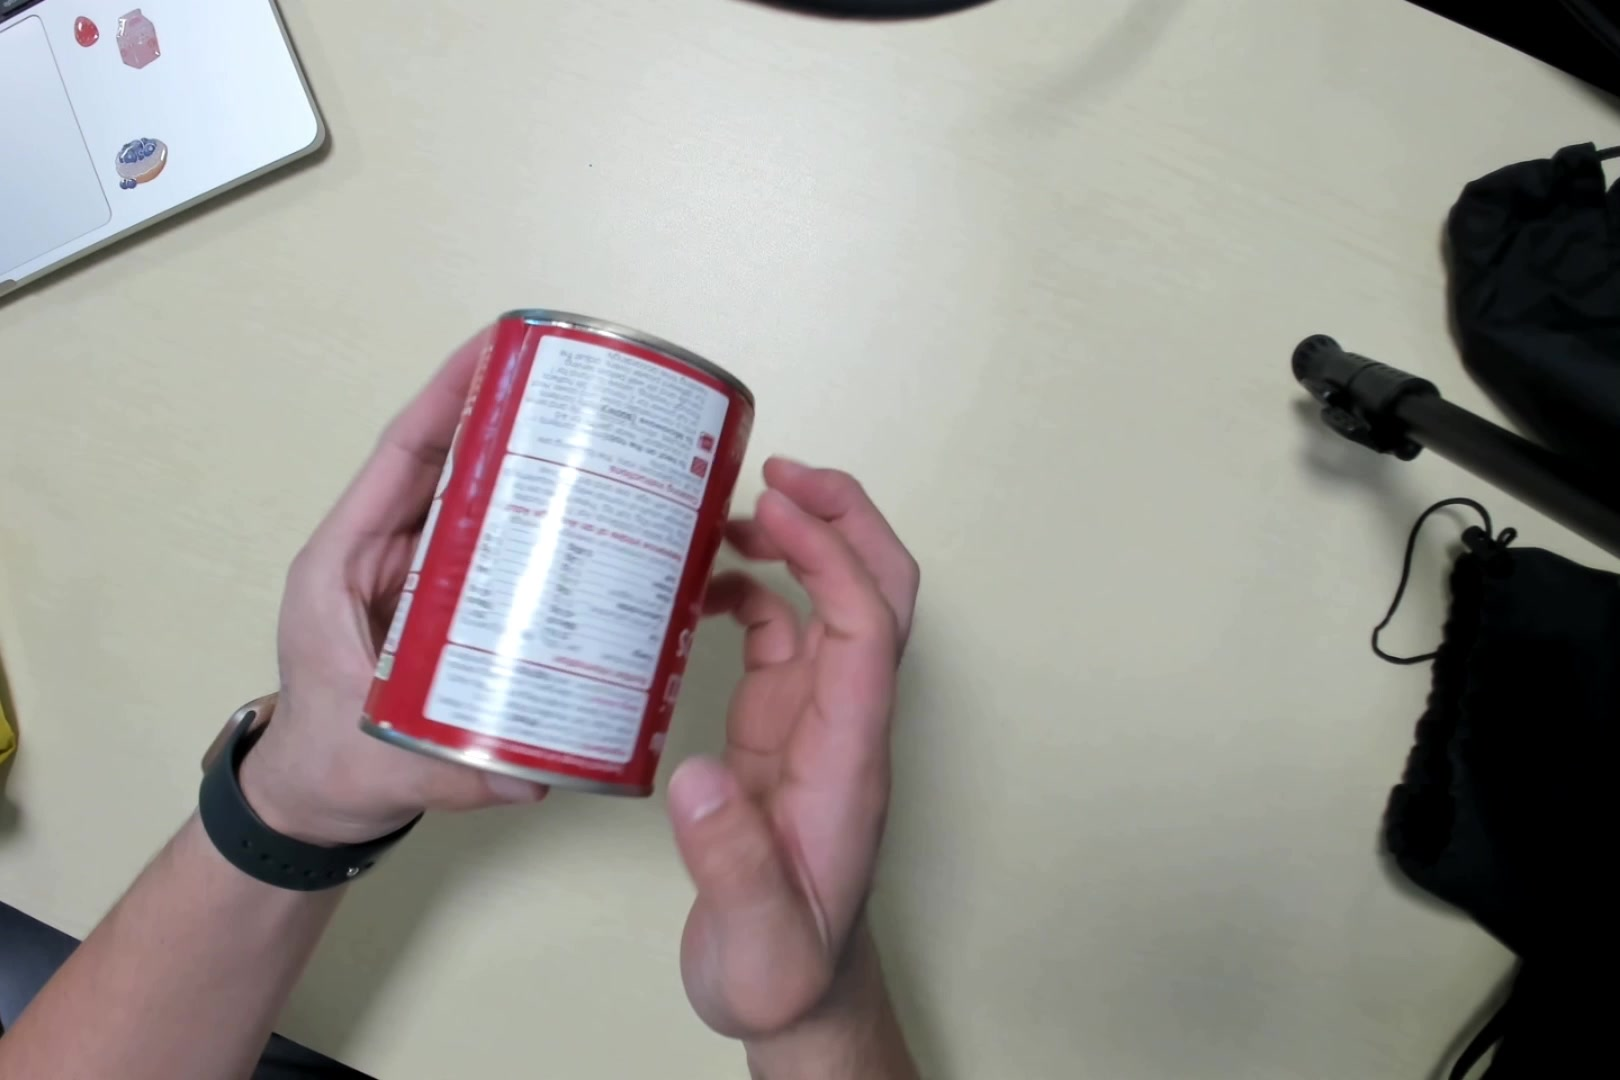InstantMeals_400-499g_NonHalal_NonHealthy: (365, 305, 755, 792)
